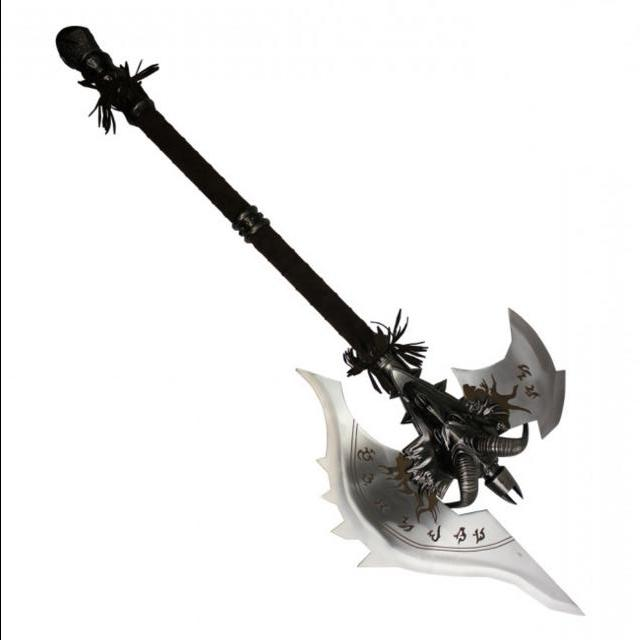axe: (51, 24, 588, 623)
